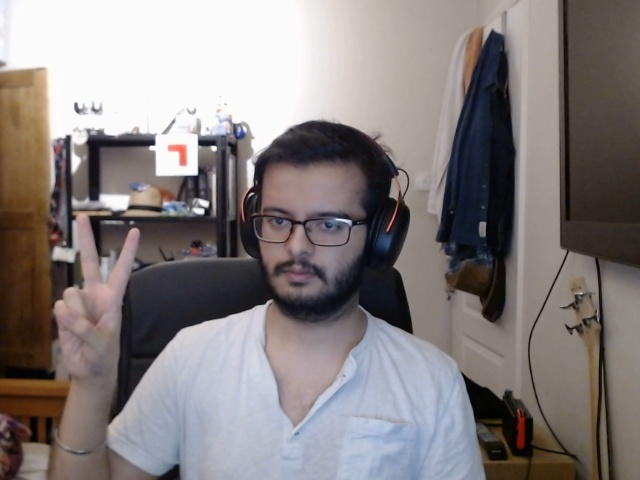Peace: (51, 211, 148, 390)
